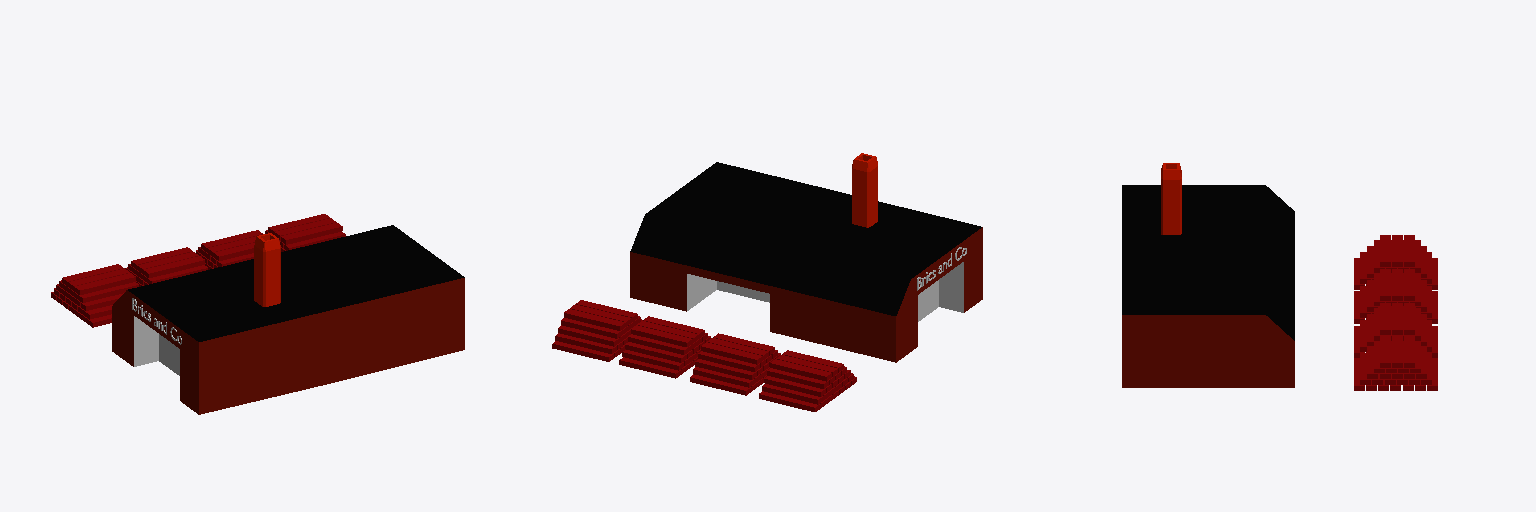
Rendered from brick.obj.
The picture shows the model from 3 angles: view 1: azimuth 30°, elevation 25°; view 2: azimuth 150°, elevation 25°; view 3: azimuth 270°, elevation 25°; orthographic projection.
Visible parts, largest first — view 1: Cube, Cube.004, Cube.005; view 2: Cube, Cube.004, Cube.005; view 3: Cube, Cube.004, Cube.005.
Boxes of the visible parts, x1=… form: Cube: x1=112, y1=225, x2=464, y2=414; Cube.004: x1=51, y1=214, x2=345, y2=327; Cube.005: x1=254, y1=233, x2=280, y2=306; Cube: x1=630, y1=162, x2=982, y2=362; Cube.004: x1=552, y1=300, x2=856, y2=411; Cube.005: x1=852, y1=153, x2=877, y2=227; Cube: x1=1122, y1=185, x2=1294, y2=387; Cube.004: x1=1354, y1=235, x2=1437, y2=390; Cube.005: x1=1161, y1=163, x2=1181, y2=234.
Bounding box in the file's own units: 8.77 × 4.21 × 8.78.